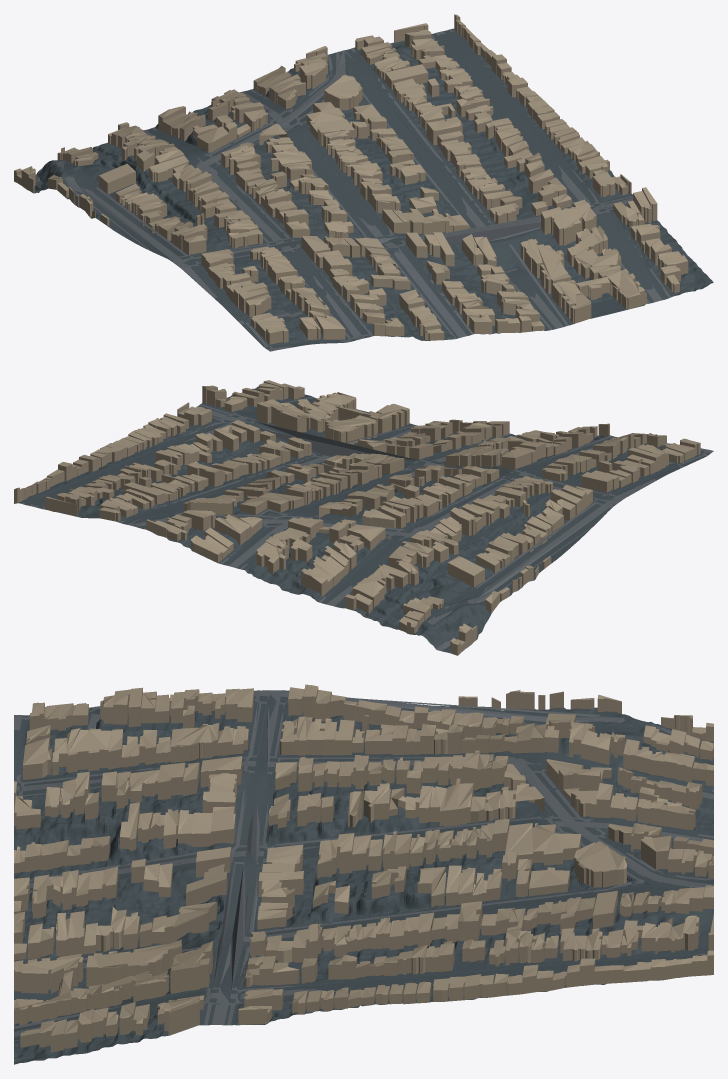
Rendered from epsg26910-1439-10883.lod0.glb.
3 renders of one model, top to bottom at view 1: azimuth 30°, elevation 25°; view 2: azimuth 150°, elevation 25°; view 3: azimuth 270°, elevation 25°, orthographic. The views are drawn at different scales.
Visible parts, largest first — view 1: epsg26910-1439-10883-lod0; view 2: epsg26910-1439-10883-lod0; view 3: epsg26910-1439-10883-lod0.
Part boxes in pixels (<box>): epsg26910-1439-10883-lod0: <box>14,14,713,351</box>; epsg26910-1439-10883-lod0: <box>14,380,713,655</box>; epsg26910-1439-10883-lod0: <box>14,684,713,1064</box>.
Bounding box in the file's own units: 384 × 74.94 × 384.
